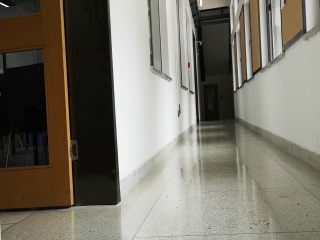room: (1, 3, 123, 210)
